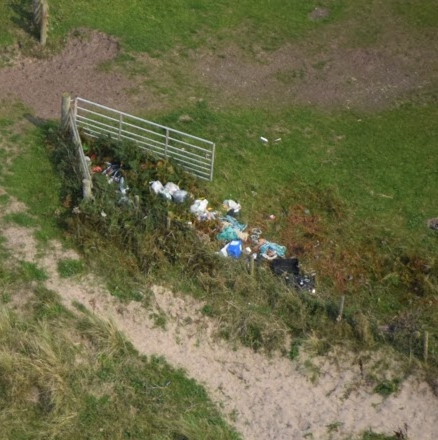cuboid: (71, 93, 220, 184)
net: (214, 209, 254, 247)
together_barrel: (145, 177, 304, 279), (90, 155, 132, 197)
